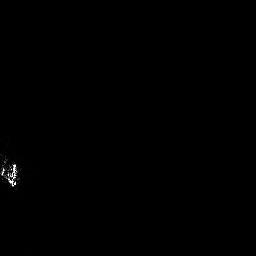ship: (1, 155, 20, 188)
